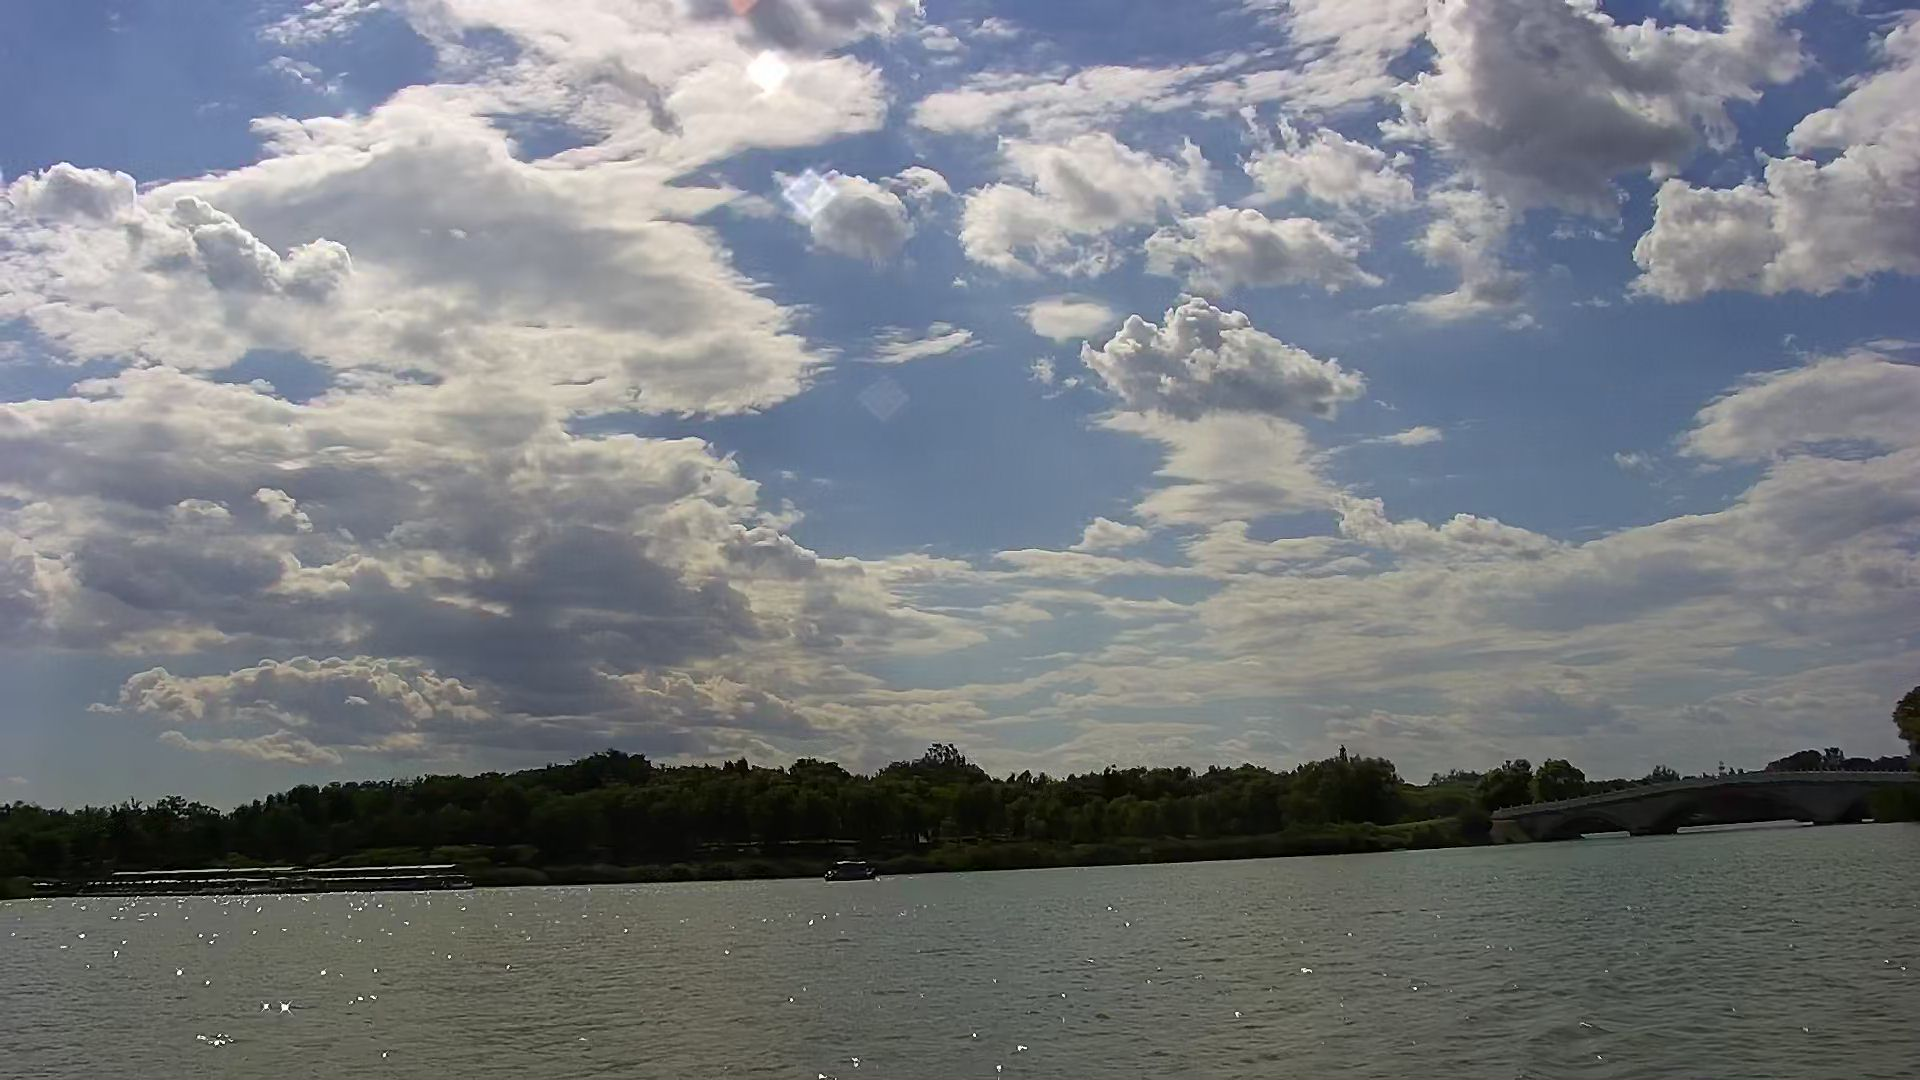boat: (822, 855, 882, 884)
bridge: (1502, 764, 1917, 841)
harbor: (103, 861, 465, 895)
